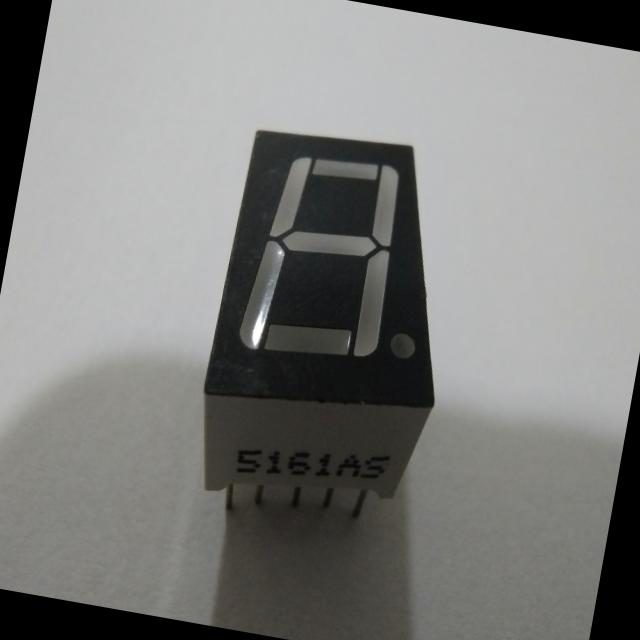7_segments: (173, 104, 481, 554)
